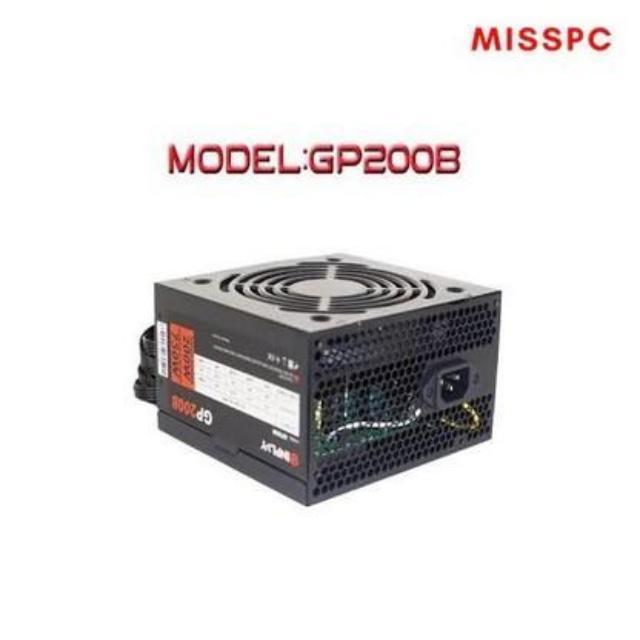PSU: (133, 245, 518, 507)
